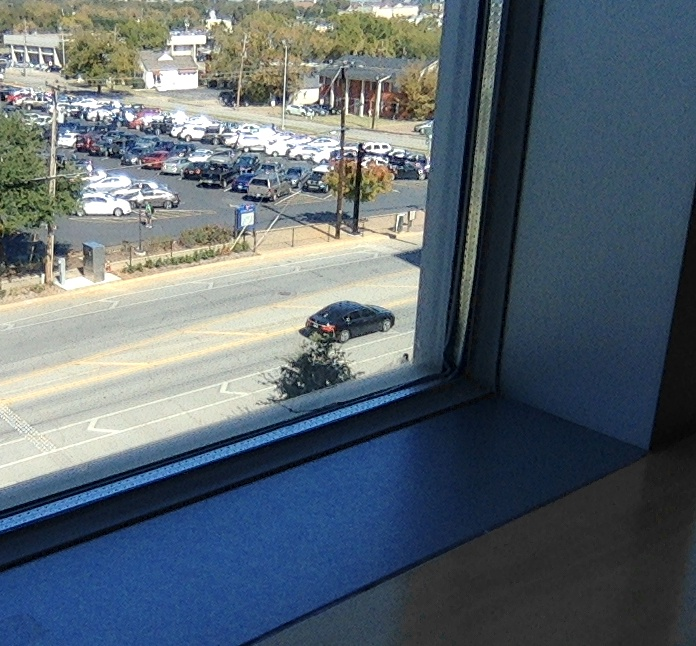car: (300, 300, 396, 346)
